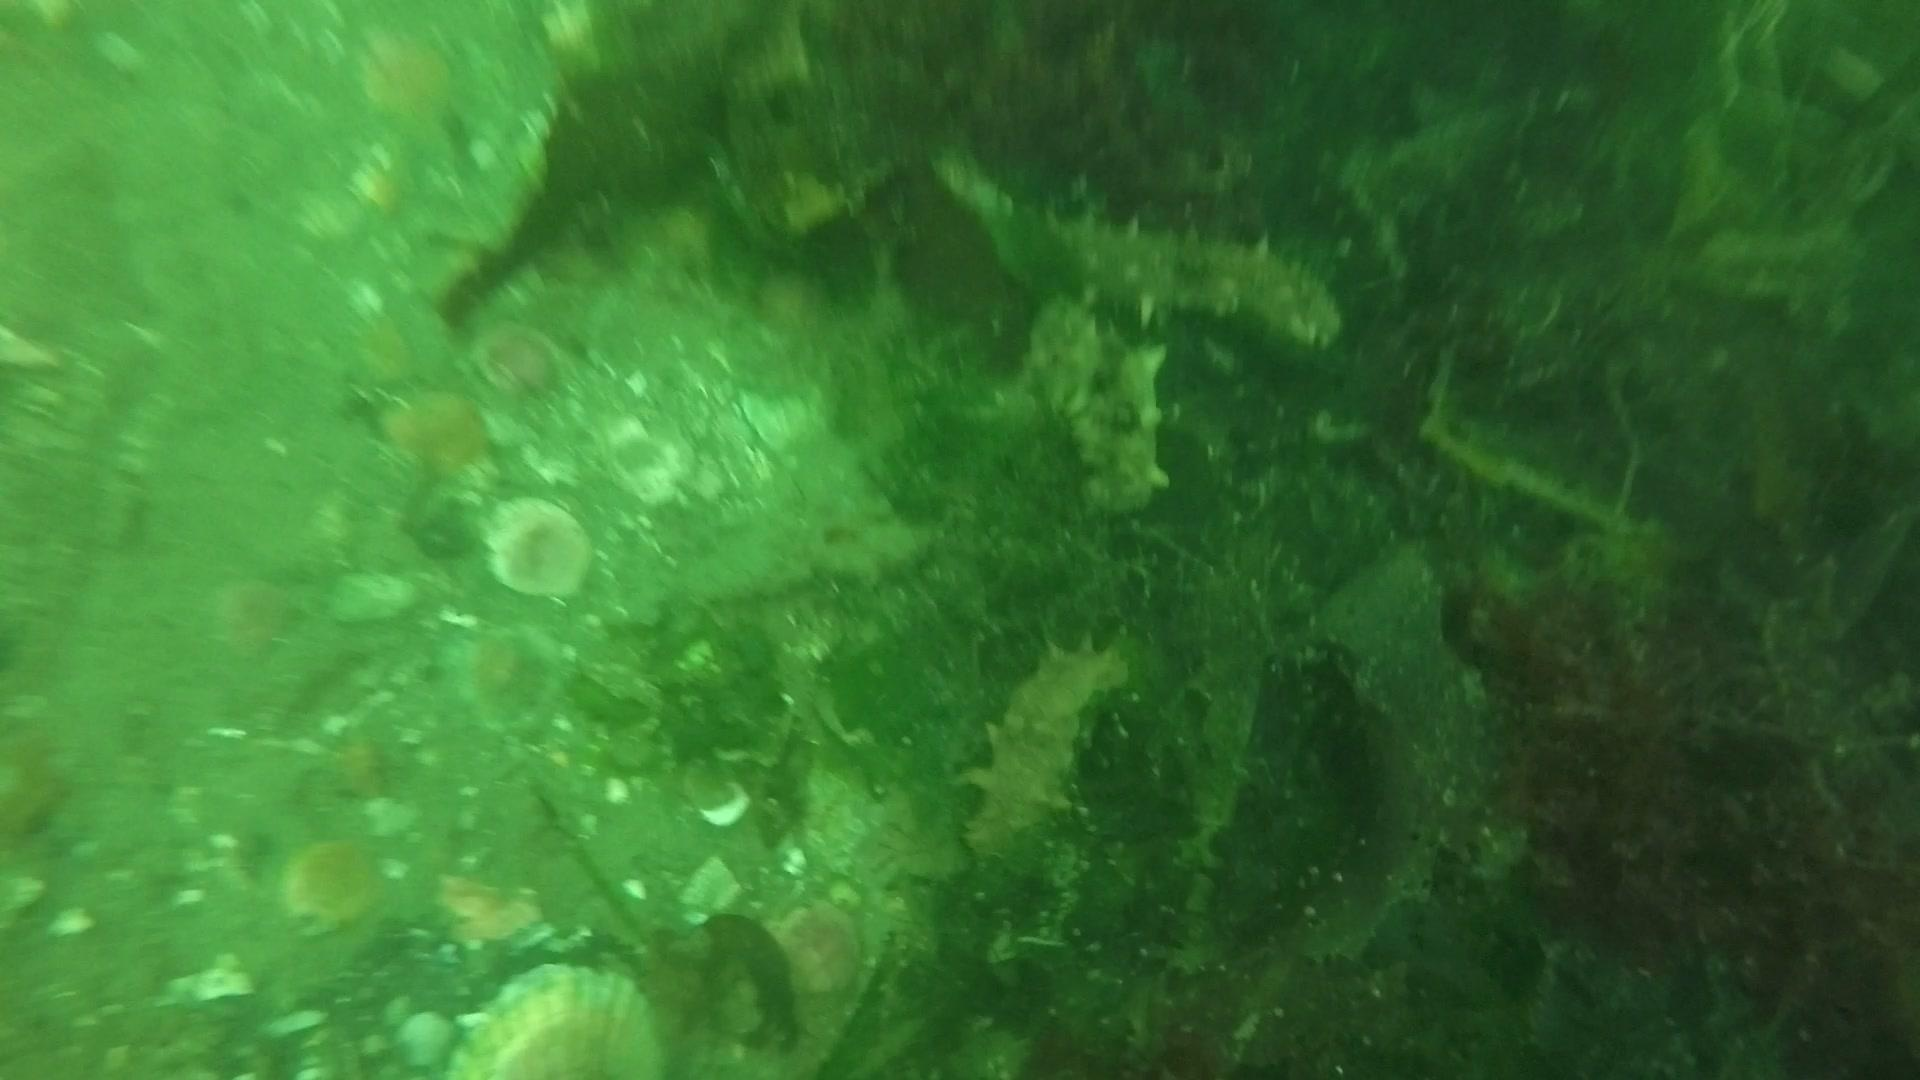holothurian: (996, 198, 1356, 357), (953, 632, 1131, 880), (1022, 294, 1178, 520)
scallop: (450, 959, 673, 1077)
starfish: (345, 22, 469, 148)
